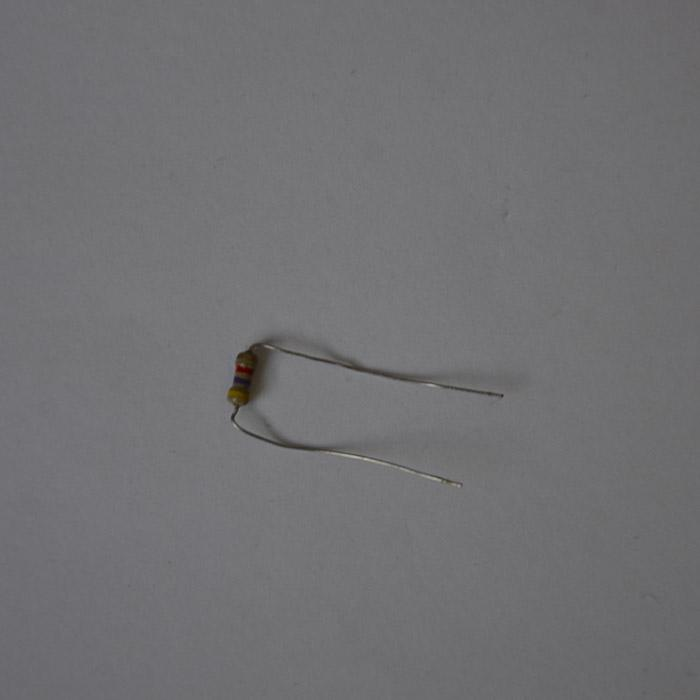resistor: (227, 349, 257, 408)
